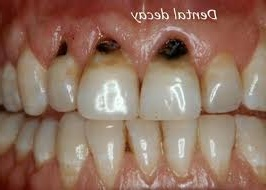Caries: (147, 29, 189, 60), (84, 37, 131, 54), (50, 37, 74, 60)
